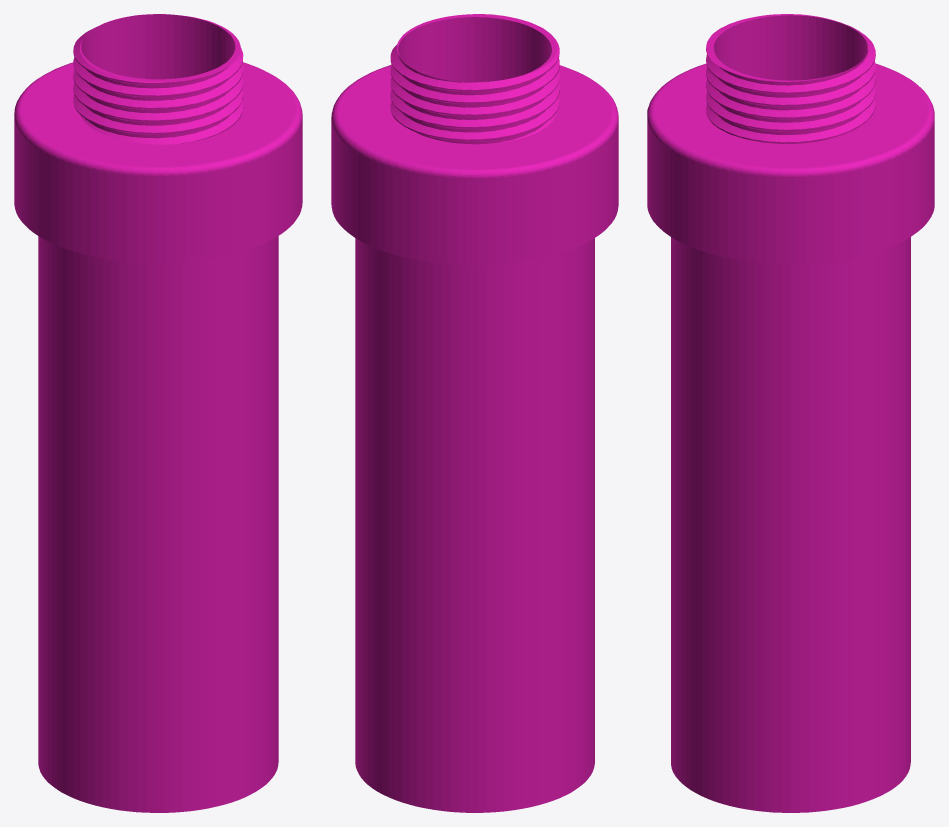
File: corps_produit_01.glb
3 views of the same model, side by side, from view 1: azimuth 30°, elevation 25°; view 2: azimuth 150°, elevation 25°; view 3: azimuth 270°, elevation 25° (orthographic).
Parts seen in each view (by area): view 1: bouteille prototype V3 corps seul; view 2: bouteille prototype V3 corps seul; view 3: bouteille prototype V3 corps seul.
Part boxes in pixels (box(x1,y1,x2,y2)): bouteille prototype V3 corps seul: box(14, 14, 302, 812); bouteille prototype V3 corps seul: box(331, 14, 618, 812); bouteille prototype V3 corps seul: box(647, 14, 934, 812).
Size of the model in its own units: 83.43 by 229 by 83.43.
